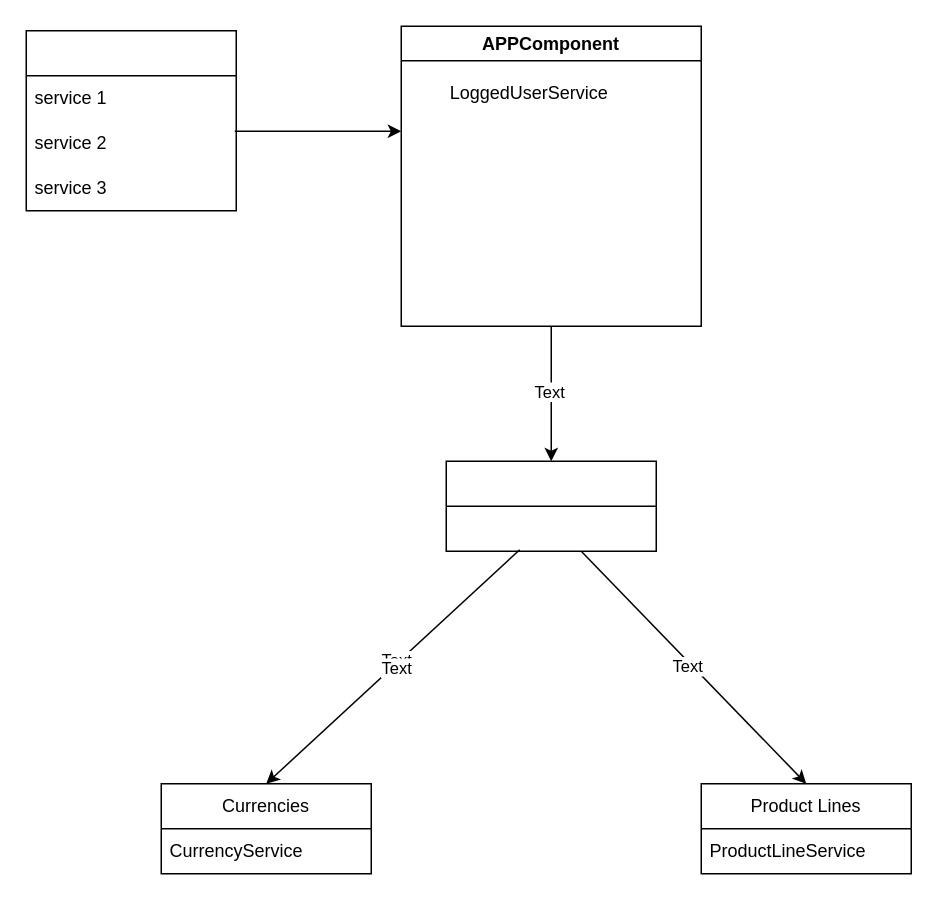
The diagram is 938 pixels wide and 900 high, and some of its shapes have lost their labels. Here are the shapes that lost their labels. From the top down, the box of each, then its label:
(25, 29, 236, 211): Root
(445, 460, 656, 551): Admin
